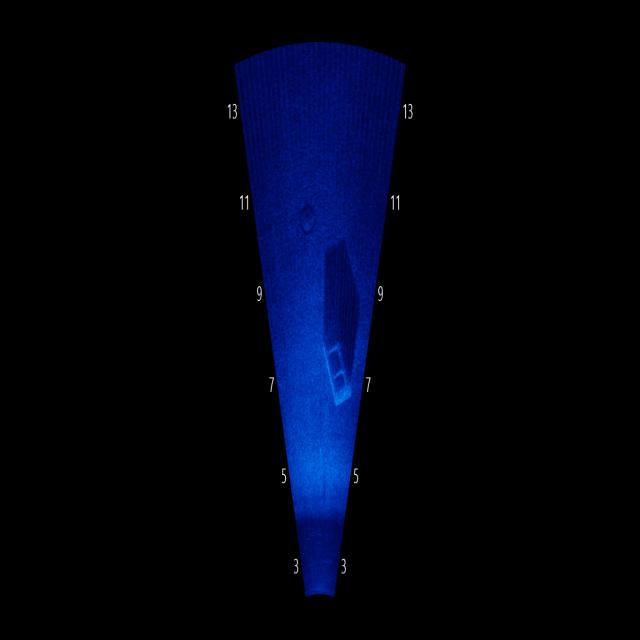square: (319, 331, 352, 408)
